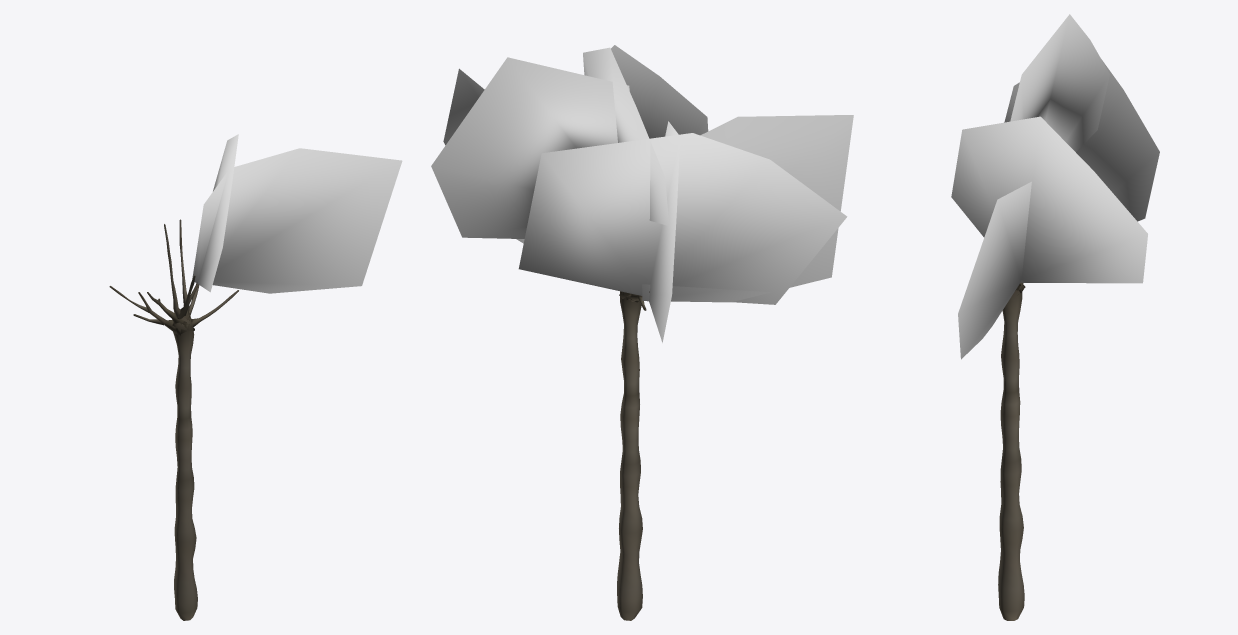
File: slender_7.glb
3 renders of one model, left to right at view 1: azimuth 30°, elevation 25°; view 2: azimuth 150°, elevation 25°; view 3: azimuth 270°, elevation 25°, orthographic. The views are drawn at different scales.
Visible parts, largest first — view 1: slender_7; view 2: slender_7; view 3: slender_7.
Part boxes in pixels (x1,y1,x2,y2): slender_7: (109,134,402,620); slender_7: (431,45,853,620); slender_7: (951,14,1159,620).
Bounding box in the file's own units: 6.45 × 9.27 × 4.69.
